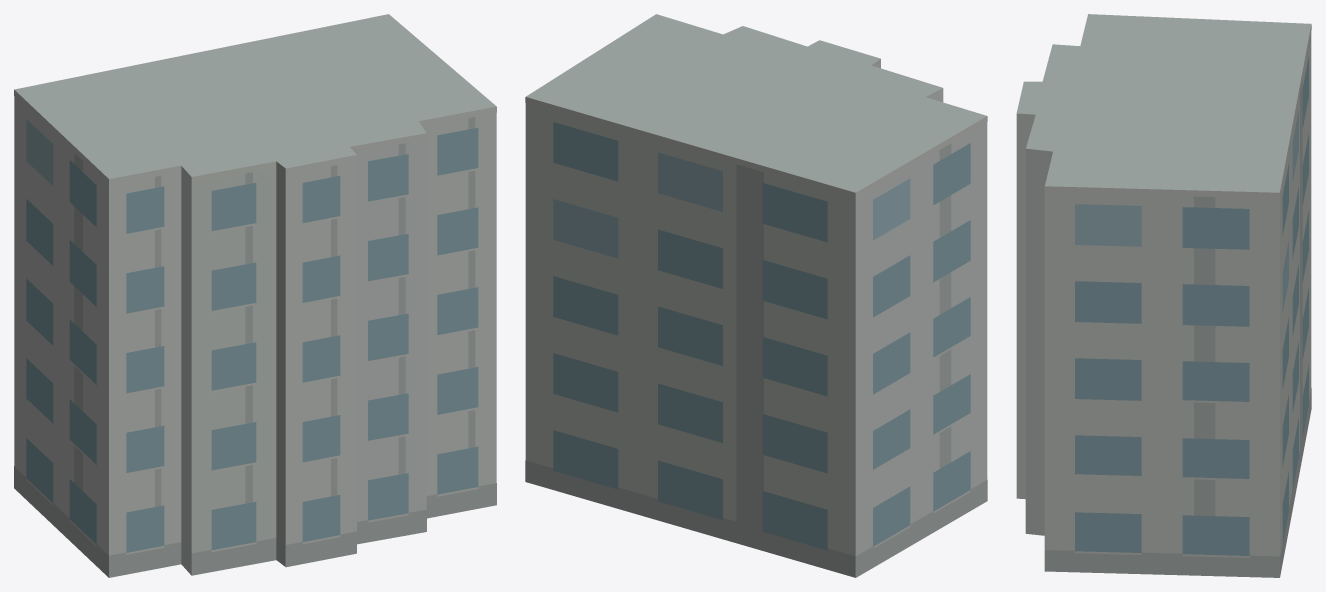
Rendered from survey-upis-32941194.glb.
3 renders of one model, left to right at view 1: azimuth 30°, elevation 25°; view 2: azimuth 150°, elevation 25°; view 3: azimuth 270°, elevation 25°, orthographic. The views are drawn at different scales.
Parts seen in each view (by area): view 1: survey-upis-32941194.tmp; view 2: survey-upis-32941194.tmp; view 3: survey-upis-32941194.tmp.
Part boxes in pixels (x1,y1,x2,y2): survey-upis-32941194.tmp: [14, 14, 496, 577]; survey-upis-32941194.tmp: [525, 14, 987, 577]; survey-upis-32941194.tmp: [1016, 14, 1311, 577].
Bounding box in the file's own units: 15.18 × 15.25 × 10.59.
